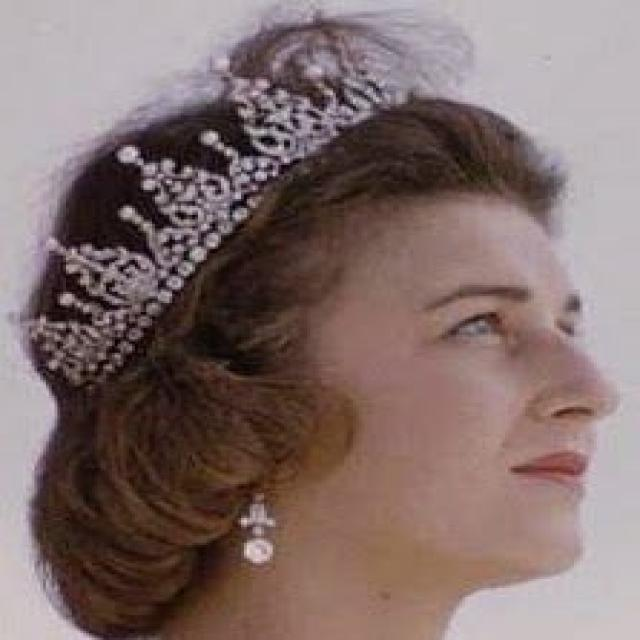Earring: (228, 487, 298, 576)
